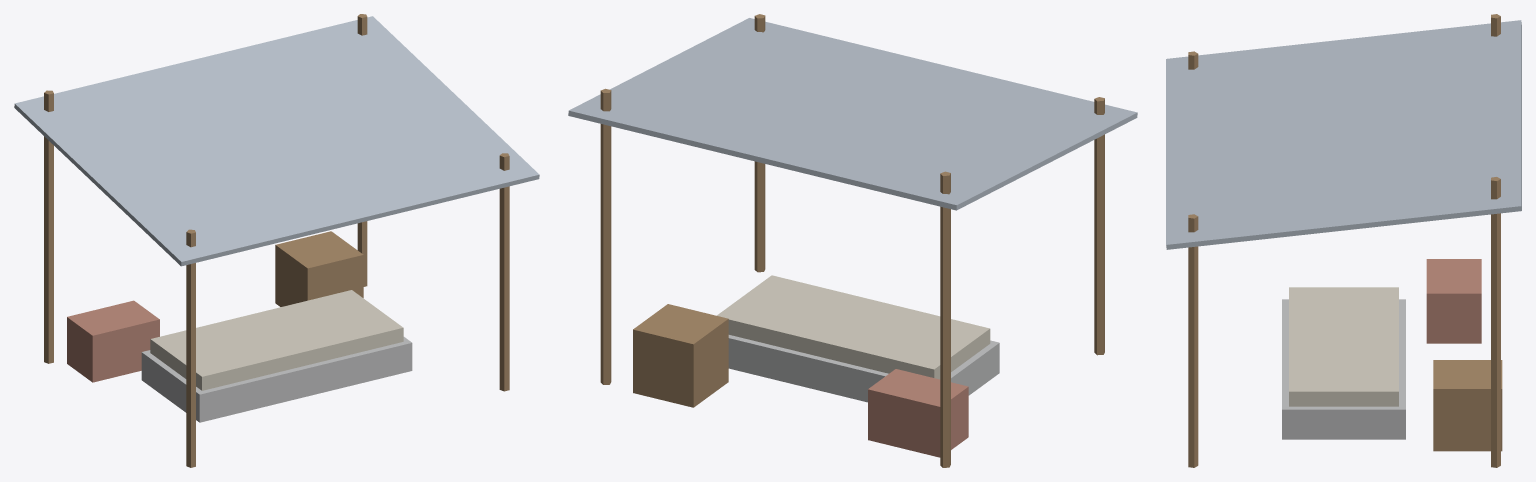
Rendered from Branda_Baraka.glb.
The picture shows the model from 3 angles, left to right: view 1: azimuth 30°, elevation 25°; view 2: azimuth 150°, elevation 25°; view 3: azimuth 270°, elevation 25°; orthographic projection. The views are drawn at different scales.
Parts seen in each view (by area): view 1: Branda_Baraka; view 2: Branda_Baraka; view 3: Branda_Baraka.
Part boxes in pixels (x1=…): Branda_Baraka: x1=14, y1=14, x2=539, y2=467; Branda_Baraka: x1=568, y1=14, x2=1137, y2=467; Branda_Baraka: x1=1166, y1=14, x2=1521, y2=467.
Bounding box in the file's own units: 3.2 × 2.3 × 2.59.
